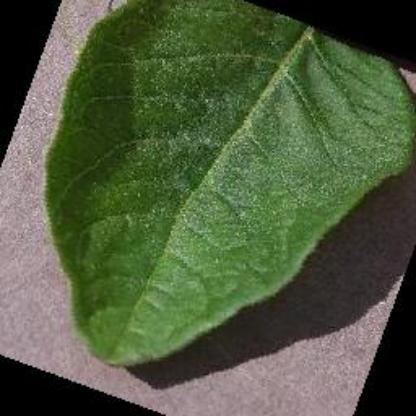Healthy-plant: (41, 0, 413, 378)
